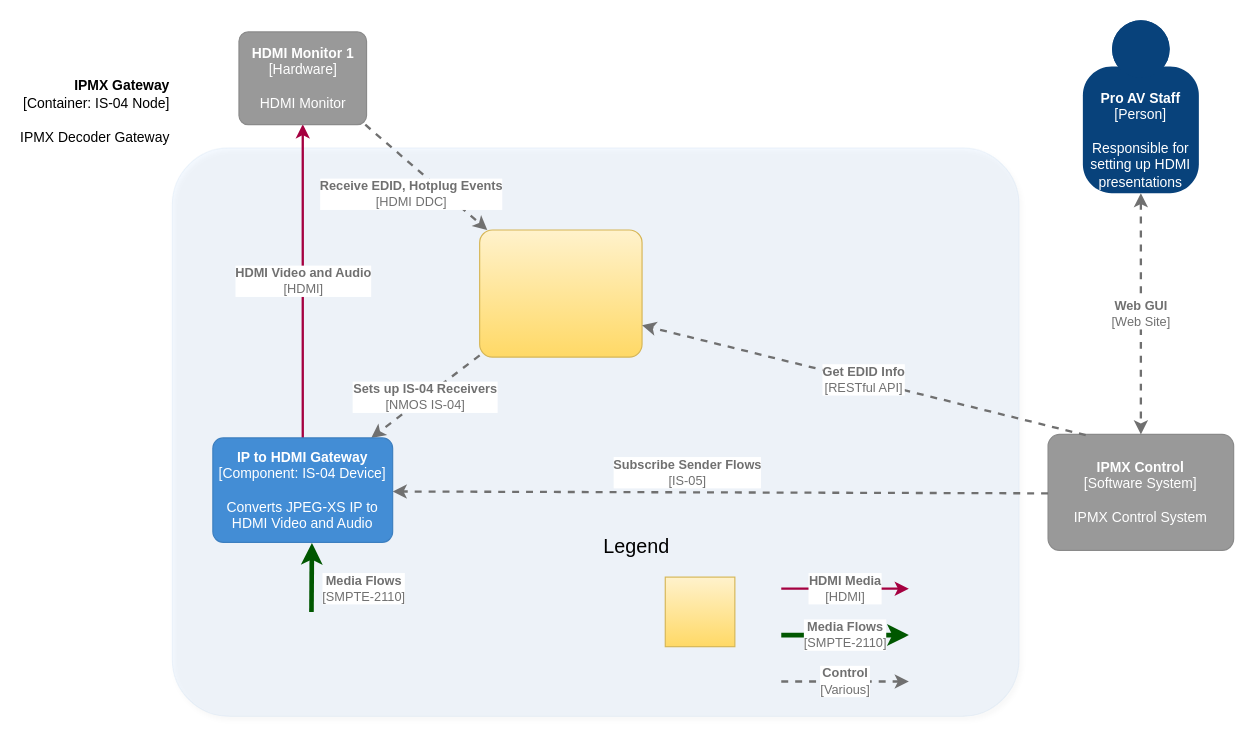
Image size: 1254x745. Some labels were removed from this diagram. Each missing label, with the centre of its shape:
"IPMX Controller [Component: IS-XX] IS-04 Device Control for the HDMI Destination" goes at [560,293].
"Under Discussion" goes at [699,611].
